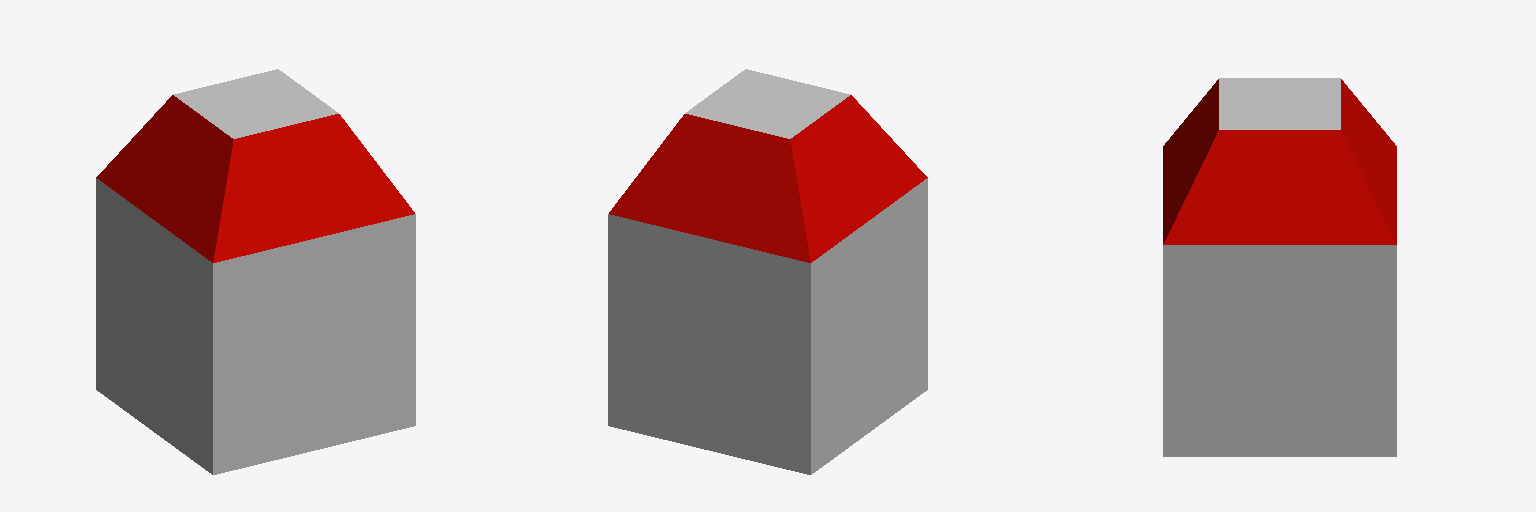
File: withtexture.obj
3 views of the same model, side by side, from view 1: azimuth 30°, elevation 25°; view 2: azimuth 150°, elevation 25°; view 3: azimuth 270°, elevation 25° (orthographic).
Parts seen in each view (by area): view 1: Cube; view 2: Cube; view 3: Cube.
Part boxes in pixels (x1,y1,x2,y2): Cube: (96, 69, 415, 474); Cube: (608, 69, 927, 474); Cube: (1163, 78, 1396, 456).
Bounding box in the file's own units: 2 × 2.87 × 2.